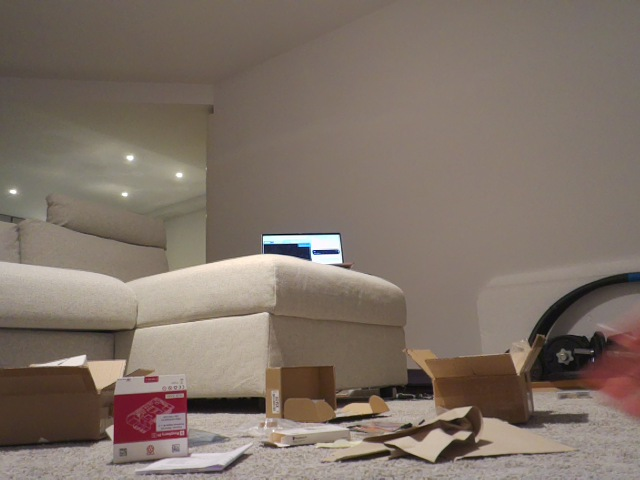box: (0, 353, 189, 463), (406, 336, 551, 433), (265, 364, 386, 424)
laptop: (262, 233, 345, 264)
sofa: (0, 188, 425, 430)
